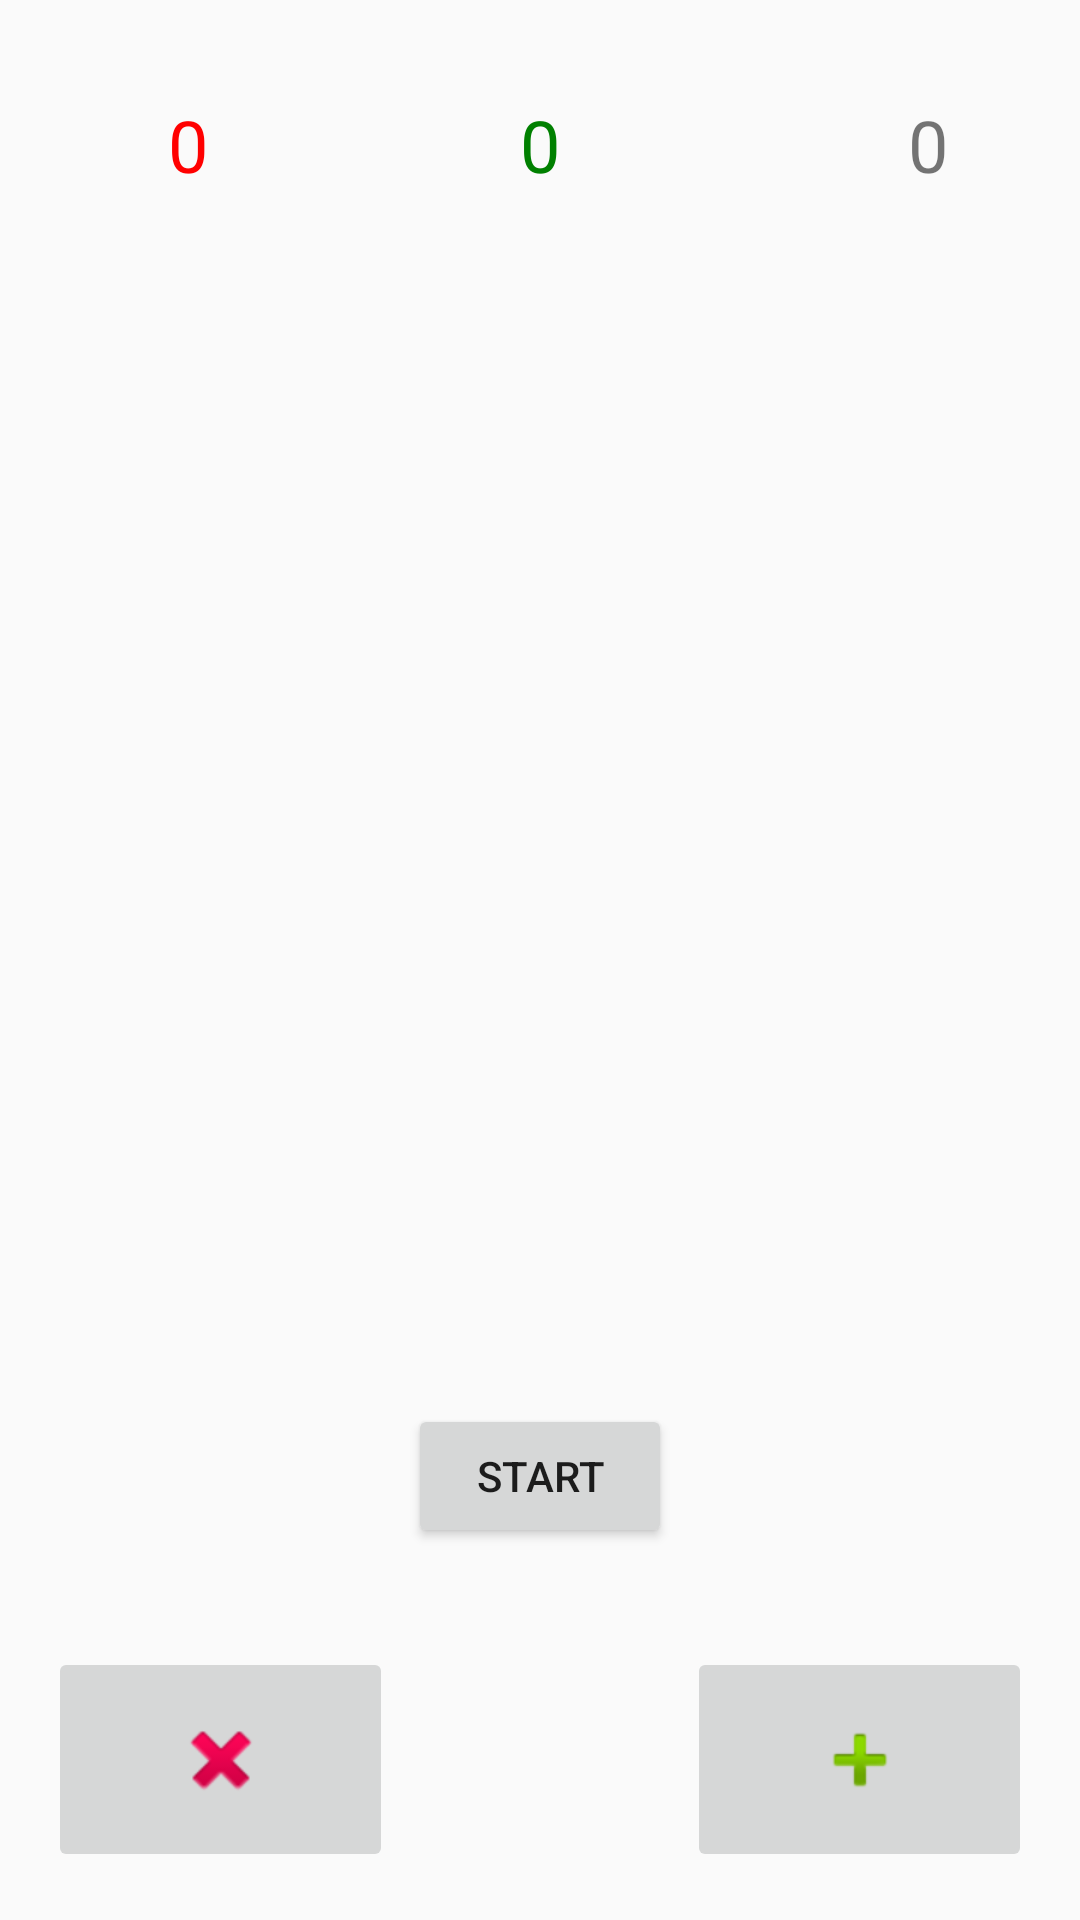

Icon bounding boxes for this 1080w x 1920h phone screenshot, format [x1=x1, y1=y1, x2=x2, y2=y2]:
add: [x1=699, y1=1665, x2=1020, y2=1854]
delete: [x1=60, y1=1665, x2=381, y2=1854]
